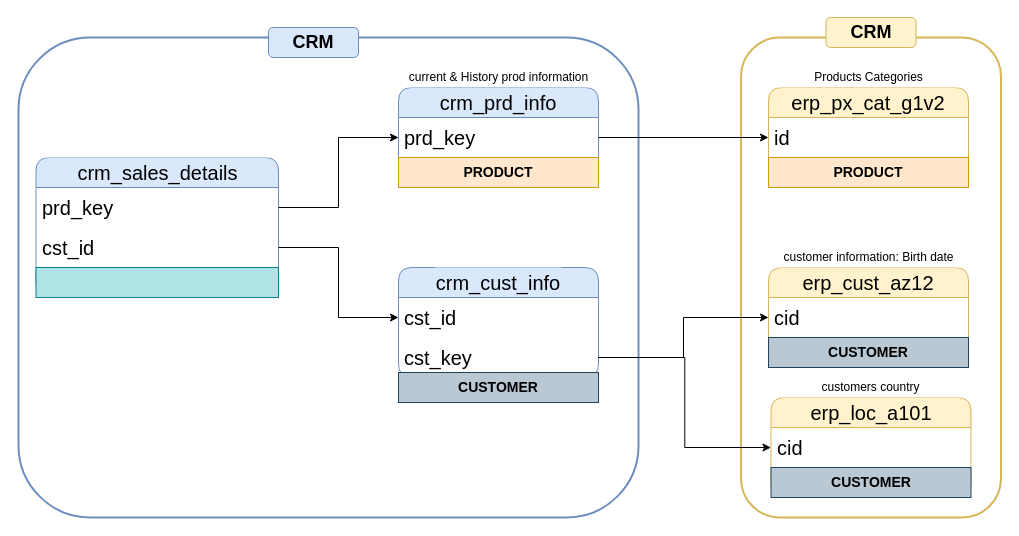
The diagram is 1019 pixels wide and 536 high, and some of its shapes have lost their labels. The centre of each missing label's shape, as x and y in pixels:
"customer information" goes at point (498, 257).
"SALES" goes at point (156, 282).
"Transactional Records about Salaes & Orders" goes at point (155, 147).
